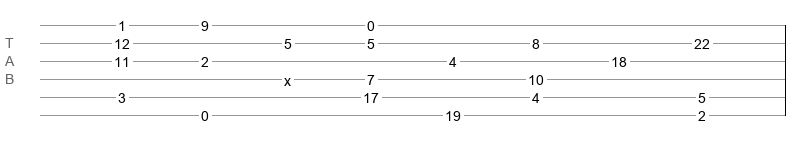0: (201, 108, 209, 118), (367, 18, 375, 28)
1: (118, 18, 126, 28)
10: (528, 72, 544, 82)
11: (114, 54, 130, 64)
12: (114, 36, 130, 46)
17: (363, 90, 379, 100)
18: (611, 54, 627, 64)
19: (445, 108, 461, 118)
2: (201, 54, 209, 64), (698, 108, 706, 118)
22: (694, 36, 710, 46)
3: (118, 90, 126, 100)
4: (449, 54, 457, 64), (532, 90, 540, 100)
5: (284, 36, 292, 46), (367, 36, 375, 46), (698, 90, 706, 100)
7: (367, 72, 375, 82)
8: (532, 36, 540, 46)
9: (201, 18, 209, 28)
x: (284, 73, 291, 81)
